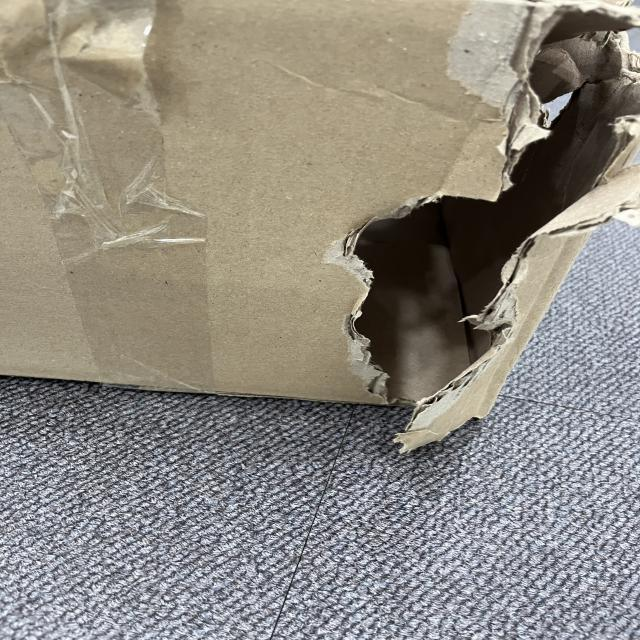hole: (347, 2, 630, 410)
